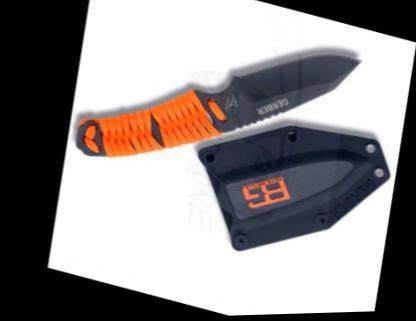knife: (212, 20, 374, 140)
